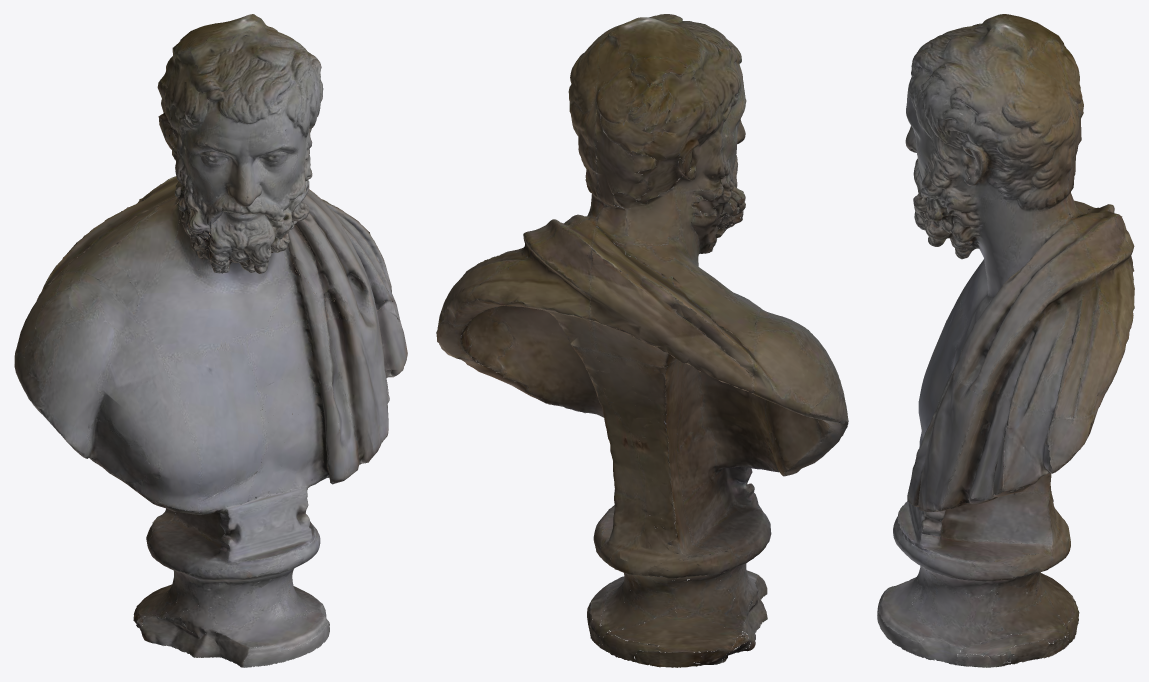
3 views of the same model, side by side, from view 1: azimuth 30°, elevation 25°; view 2: azimuth 150°, elevation 25°; view 3: azimuth 270°, elevation 25° (orthographic). The views are drawn at different scales.
Visible parts, largest first — view 1: Object_4, Object_7, Object_3, Object_6, Object_5; view 2: Object_5, Object_4, Object_7, Object_3, Object_6; view 3: Object_7, Object_6, Object_4, Object_3, Object_5, Object_8.
Part boxes in pixels (x1,y1,x2,y2): Object_4: (14,40,401,548); Object_7: (140,14,329,667); Object_3: (132,30,339,516); Object_6: (178,73,385,333); Object_5: (45,27,407,630); Object_5: (436,55,766,667); Object_4: (460,60,848,612); Object_7: (596,14,771,651); Object_3: (568,32,771,504); Object_6: (440,36,746,325); Object_7: (877,14,1069,665); Object_6: (913,27,1122,419); Object_4: (907,40,1134,667); Object_3: (906,44,1074,493); Object_5: (919,22,1134,666); Object_8: (922,59,969,122).
Size of the model in its own units: 20.46 by 31.08 by 11.81.
1 material, 1 textured.
